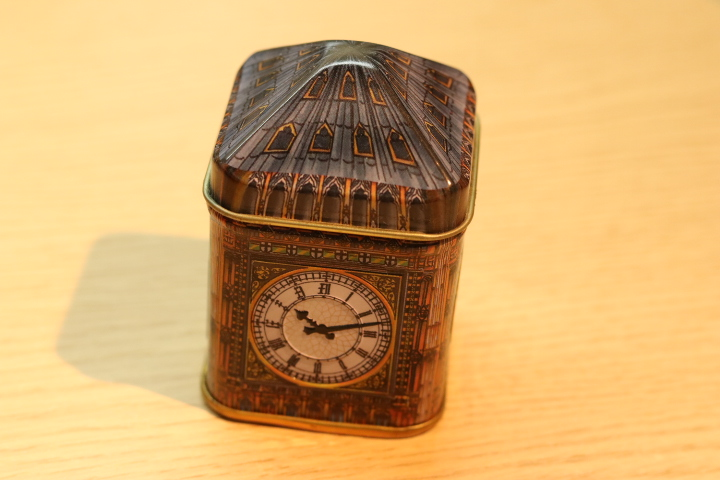Big Ben: (176, 26, 519, 454)
